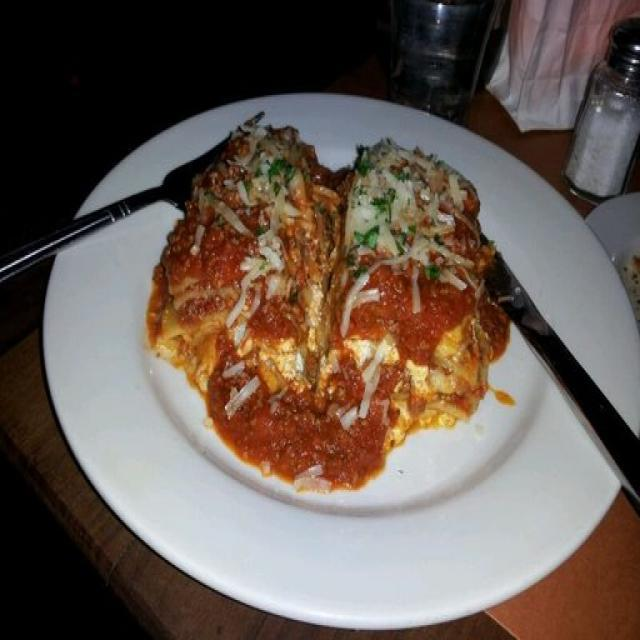Lasagna: (121, 127, 510, 513)
